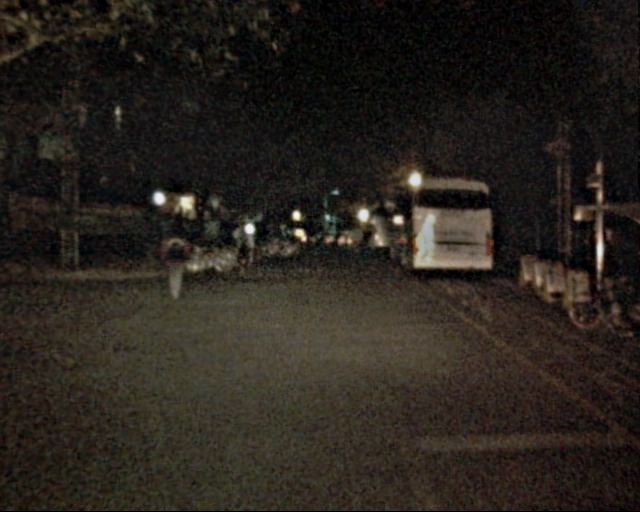person: (156, 217, 194, 309), (229, 217, 254, 277), (351, 227, 376, 262)
